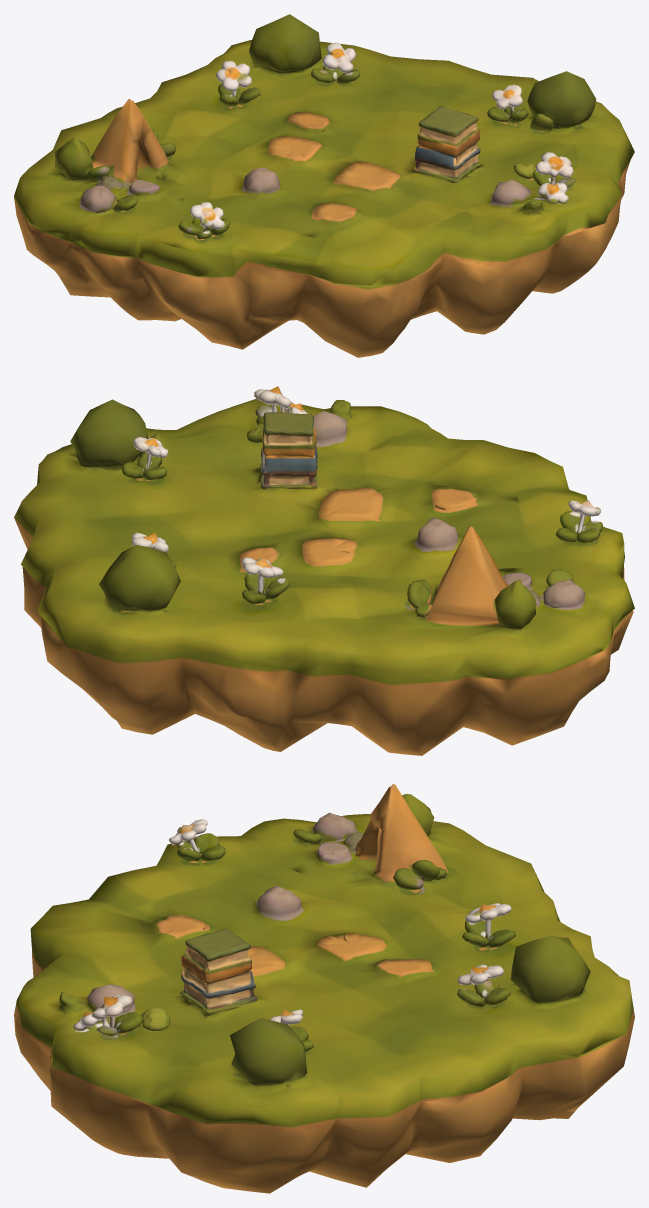
Rendered from island_top.glb.
The picture shows the model from 3 angles, top to bottom: view 1: azimuth 30°, elevation 25°; view 2: azimuth 150°, elevation 25°; view 3: azimuth 270°, elevation 25°; orthographic projection. The views are drawn at different scales.
Visible parts, largest first — view 1: tripo_node_9ea487ec-20cc-4688-91d7-fae5e499dc18; view 2: tripo_node_9ea487ec-20cc-4688-91d7-fae5e499dc18; view 3: tripo_node_9ea487ec-20cc-4688-91d7-fae5e499dc18.
Part boxes in pixels (bbox=[...]): tripo_node_9ea487ec-20cc-4688-91d7-fae5e499dc18: bbox=[14, 14, 634, 357]; tripo_node_9ea487ec-20cc-4688-91d7-fae5e499dc18: bbox=[14, 386, 634, 755]; tripo_node_9ea487ec-20cc-4688-91d7-fae5e499dc18: bbox=[14, 784, 634, 1193].
Size of the model in its own units: 0.9774 by 0.3156 by 0.8588.
Materials: 1 (1 with a texture image).
